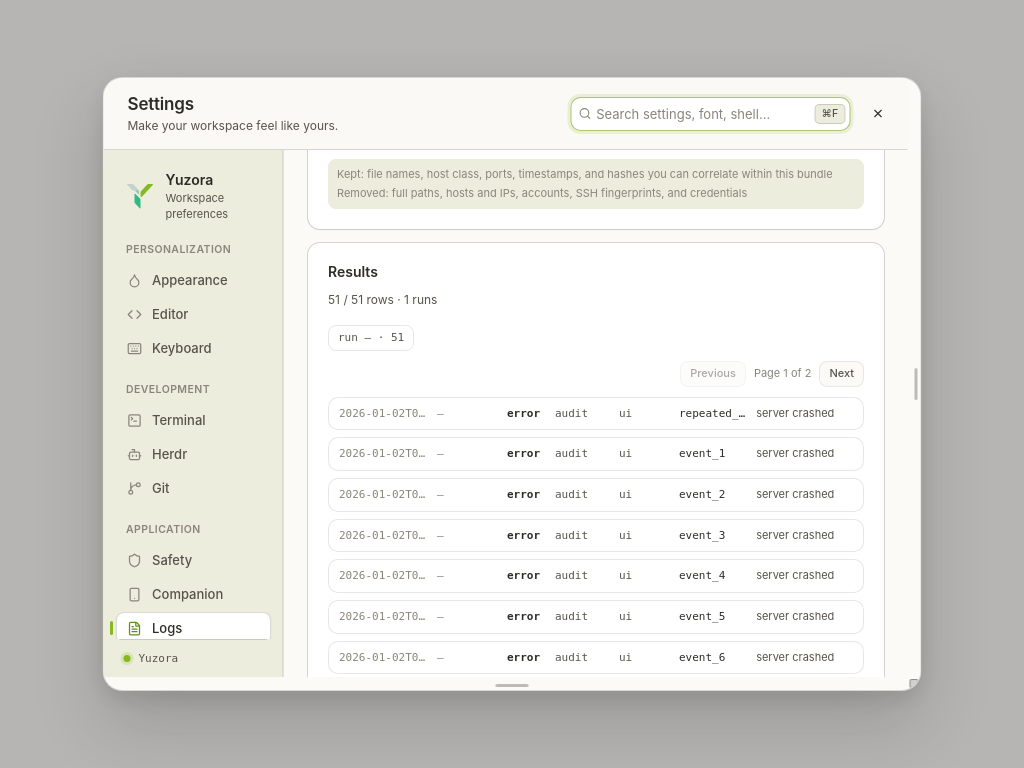
it: SettingsDialog logs section › does not carry expanded metadata to a different row at the same page-relative index
(page scrolled)
Check: the text "Page 1 of 2" is shown, box x1=753 y1=366 x2=811 y2=381
Click the button with aria-label "Expand metadata repeated_event" at (421, 413), box x1=328 y1=398 x2=862 y2=429
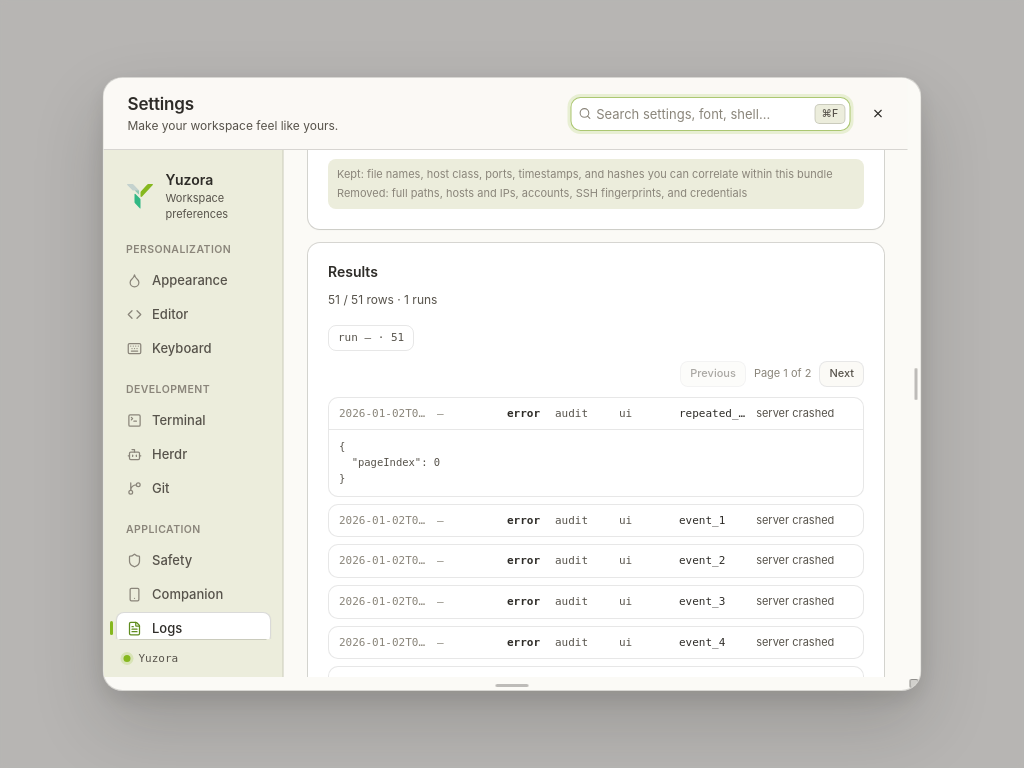
Check: the text "{ \"pageIndex\": 0 }" is shown, box x1=338 y1=440 x2=440 y2=484
Click the button with aria-label "Next results page" at (841, 374), box x1=819 y1=360 x2=864 y2=386
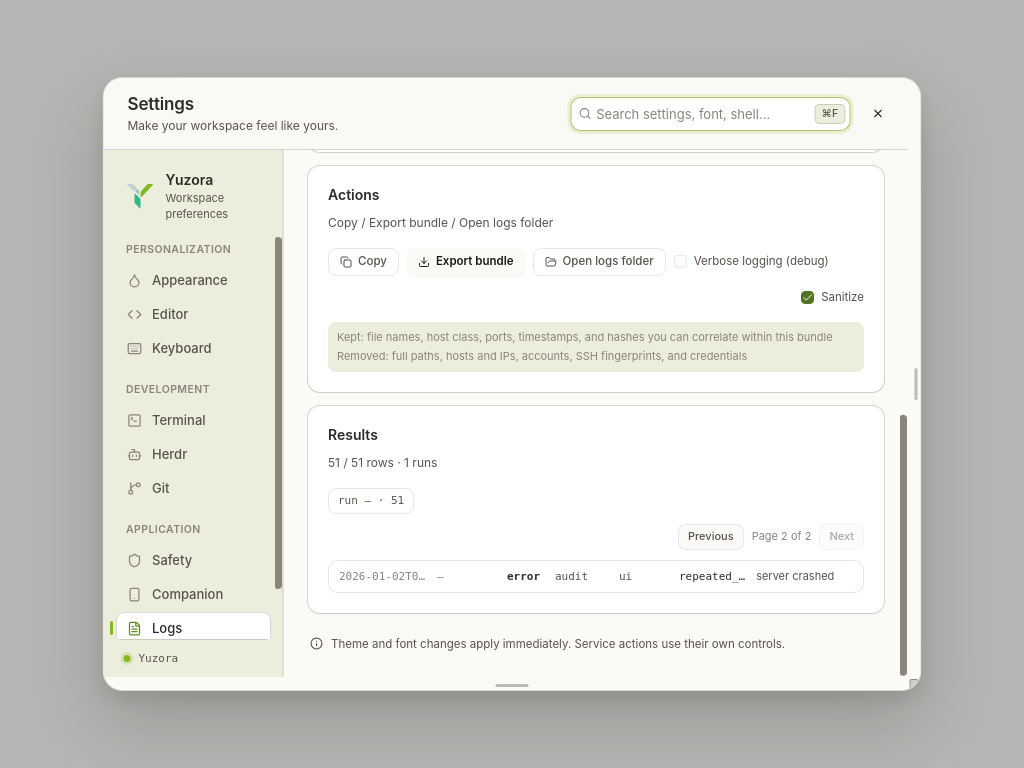
Check: the text "Page 2 of 2" is shown, box x1=751 y1=529 x2=811 y2=544
Check: the button with aria-label "Expand metadata repeated_event" is shown, box x1=328 y1=560 x2=862 y2=592
